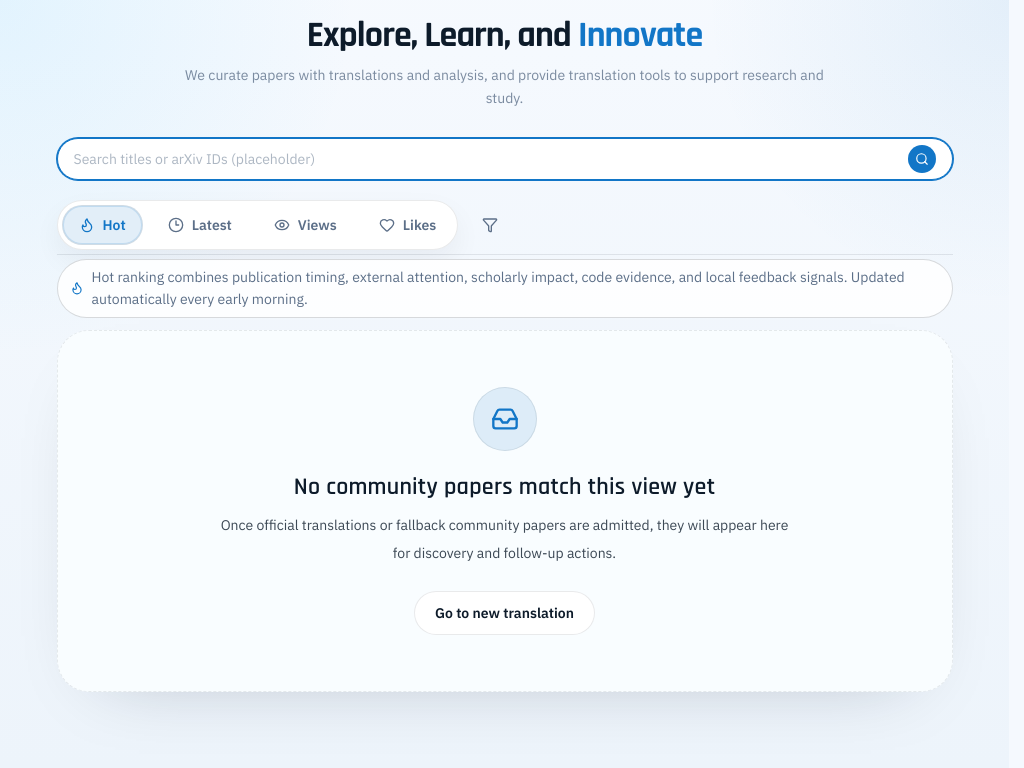
Test: CommunityFeedSurface › shows the hot ranking explanation only on the hot feed
The width and height of the screenshot is (1024, 768).
expect the text "Hot ranking combines publication timing, external attention, scholarly impact, code evidence, and local feedback signals" is shown: met, box [92, 268, 905, 308]
Click the button "Latest" at point(200, 224), box [151, 204, 249, 244]
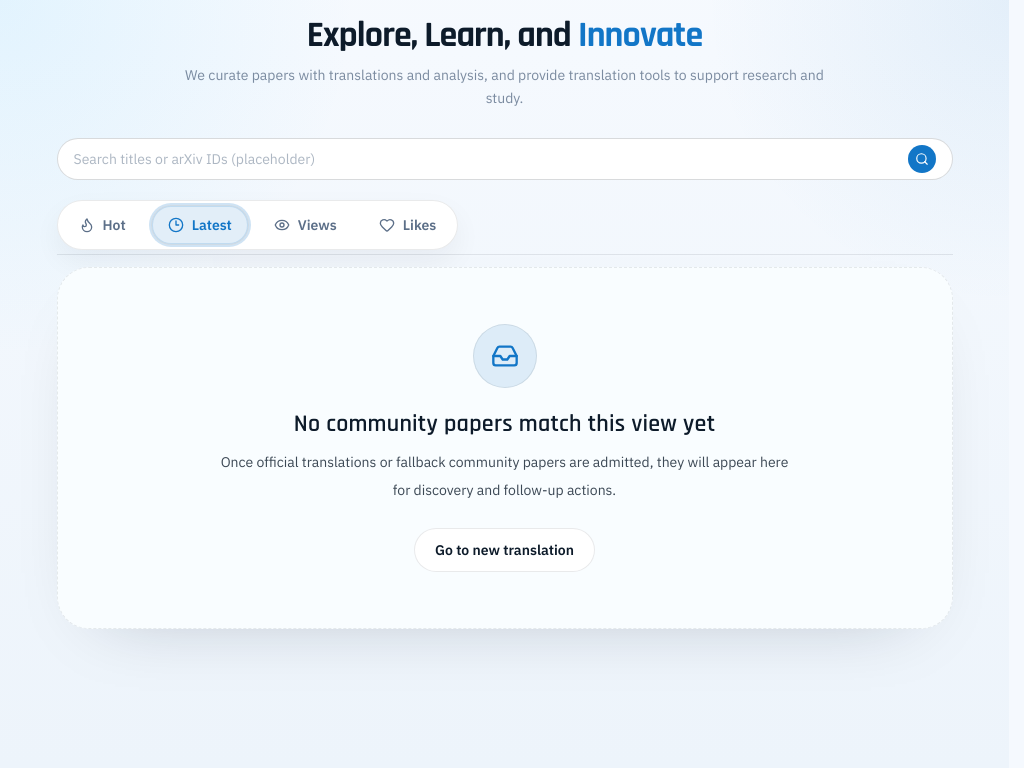
expect the text "Hot ranking combines publication timing, external attention, scholarly impact, code evidence, and local feedback signals" is gone: met
